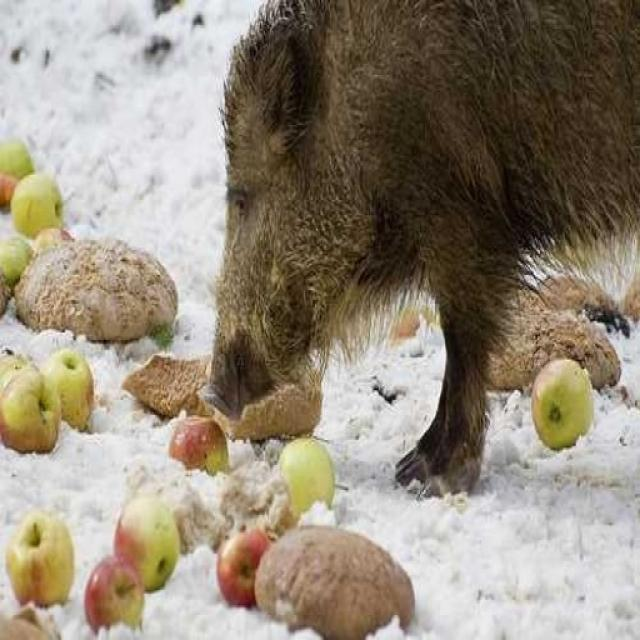pig: (204, 0, 640, 586)
